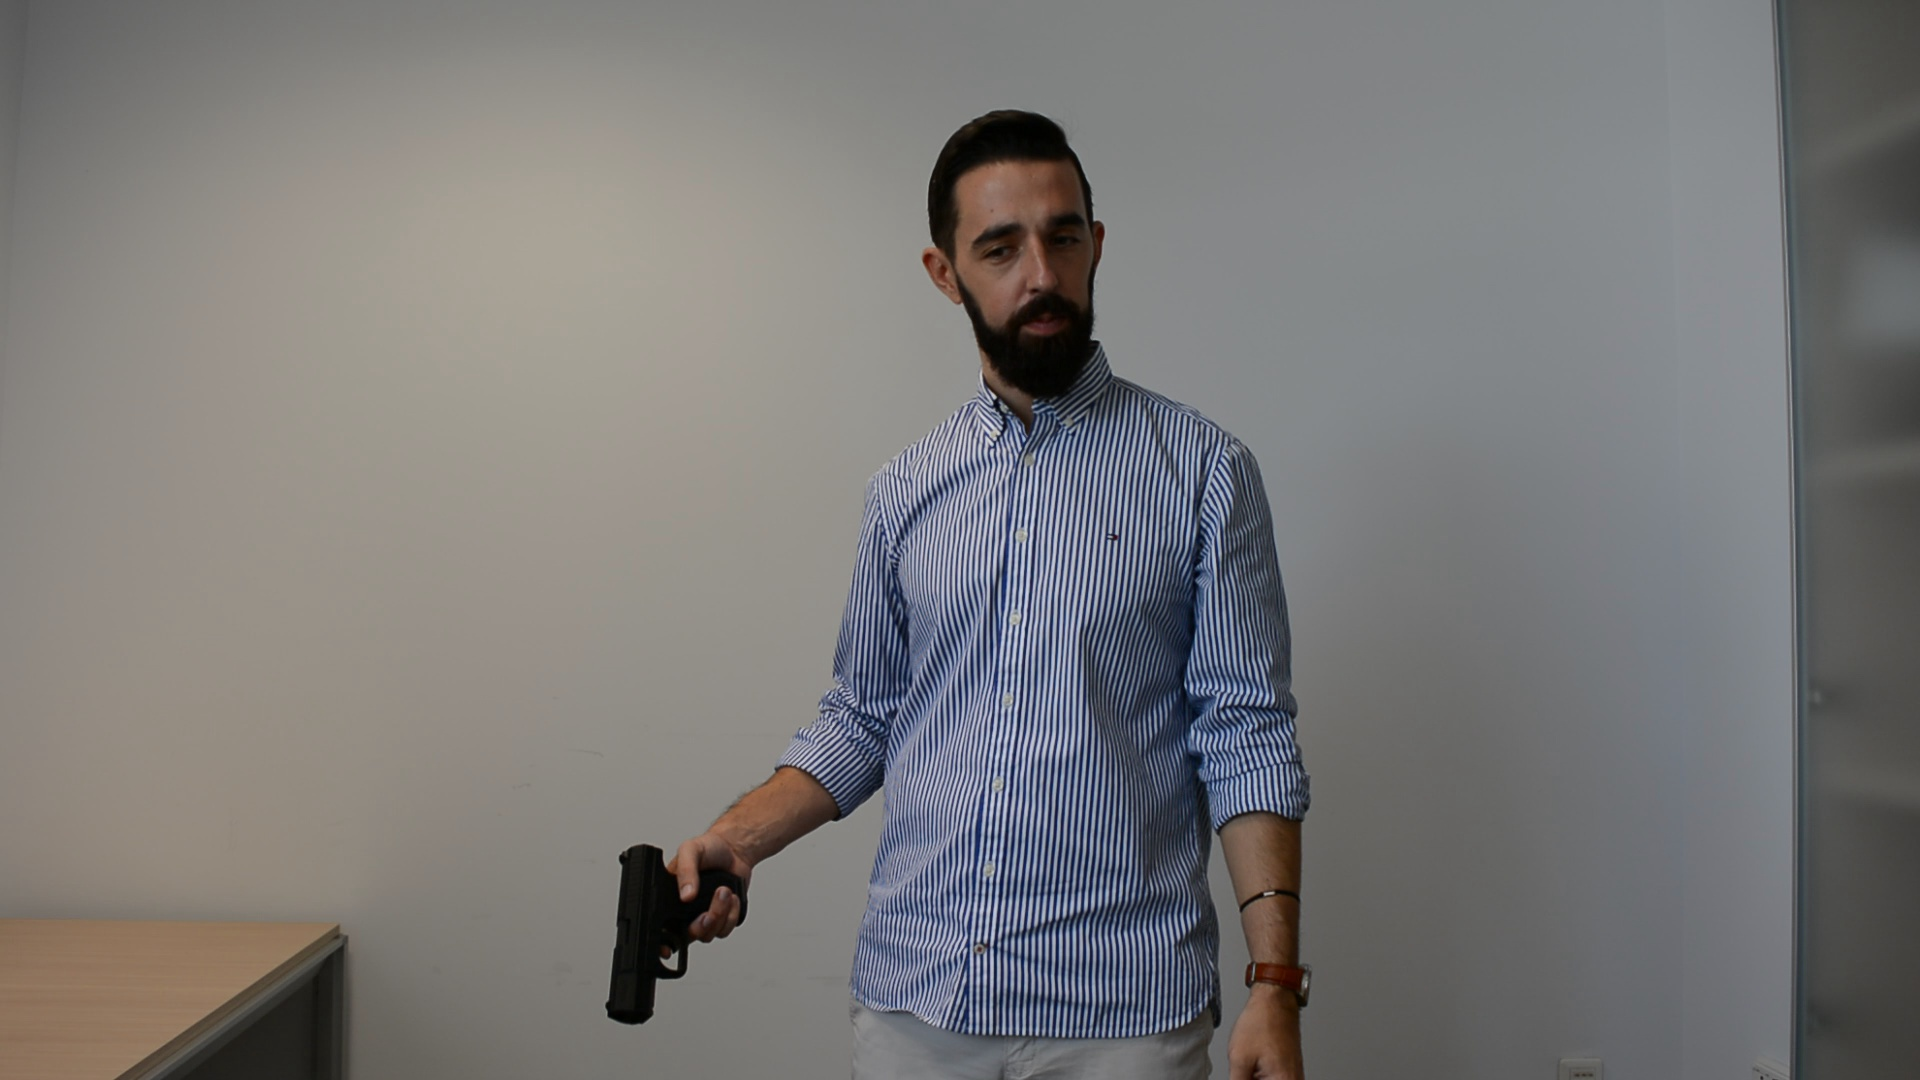pistol: (603, 839, 752, 1027)
